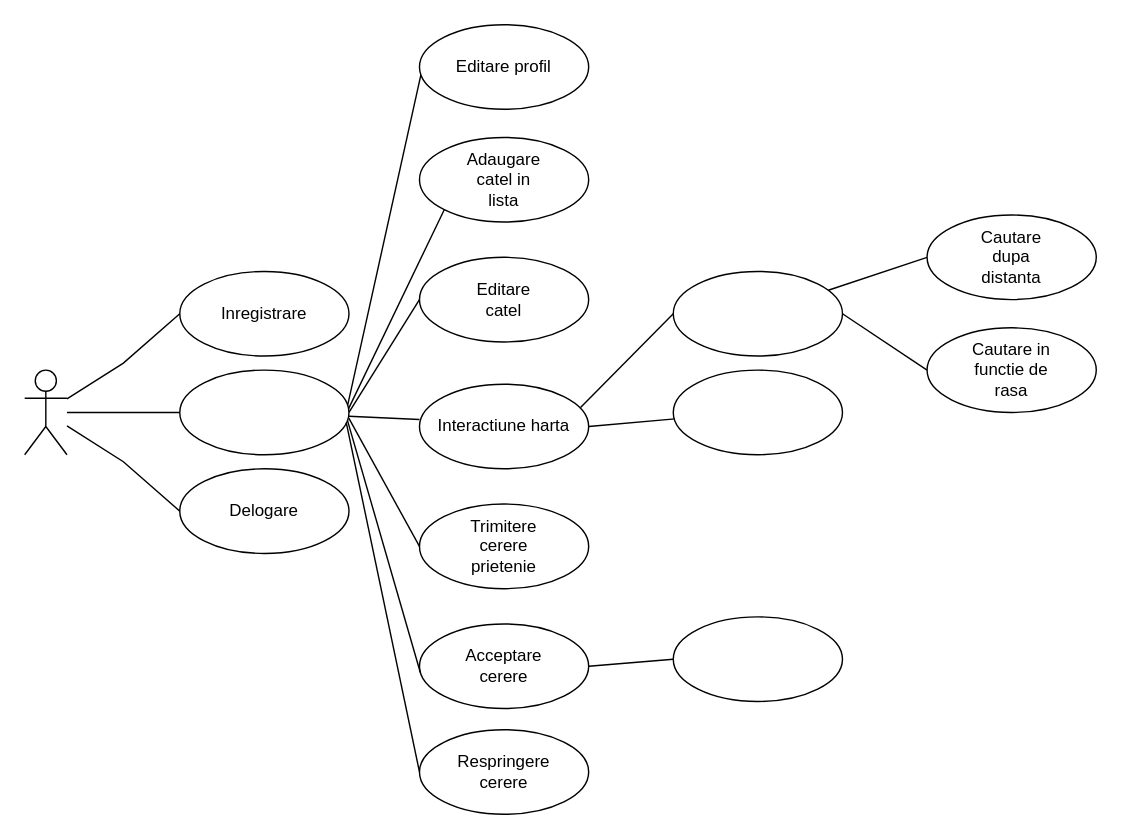
Image size: 1121x839. Some labels were removed from this diagram. Here are the shapes that lost their labels. From the top down, the box of each, then its label:
(672, 270, 842, 356): Cautare catei
(23, 369, 67, 455): User
(178, 369, 349, 455): Logare
(672, 369, 842, 455): Adaugare catel pe harta
(672, 615, 842, 701): Scriere review
